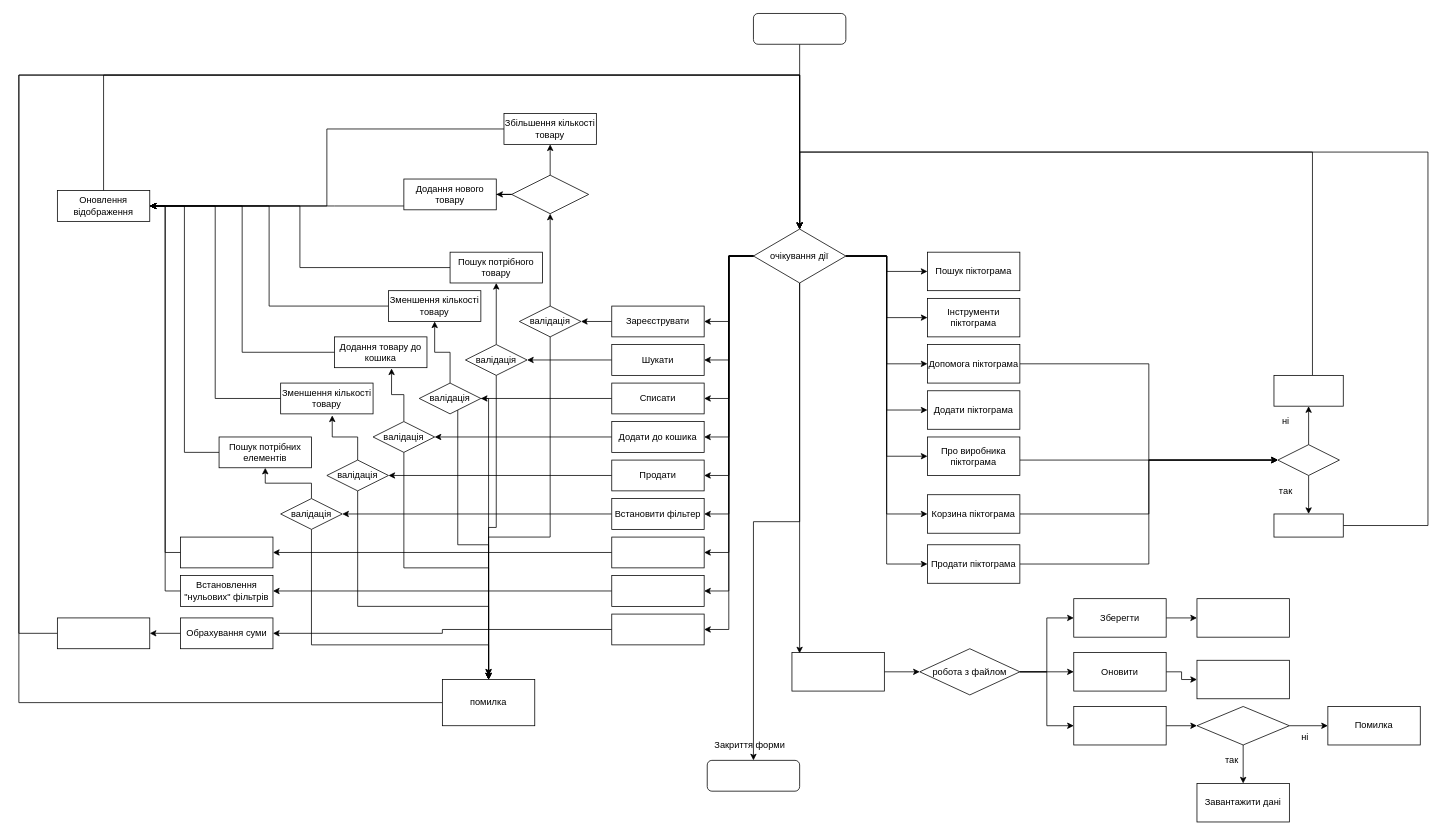
Image size: 1448x835. Some labels were removed from this diagram. The shapes that lost their labels are listed below. From the top down, each one's centre as x and y in pixels, then its label:
the point at 799,28: Початок
the point at 550,194: Товар існує
the point at 1308,390: відкрити
the point at 1308,459: Відкрито
the point at 1308,525: Закрити
the point at 226,552: Очищення даних
the point at 657,552: Очистити
the point at 657,590: Показати все
the point at 103,633: Виведення суми
the point at 657,629: Порахувати суму
the point at 1242,617: Зберегти файл
the point at 837,671: Файл піктограма
the point at 1242,679: Оновити файл
the point at 1119,725: Завантажити
the point at 1242,725: Дані коректні
the point at 753,775: Кінець
